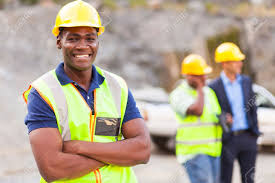Person_wearing_helmet: (48, 0, 106, 46)
